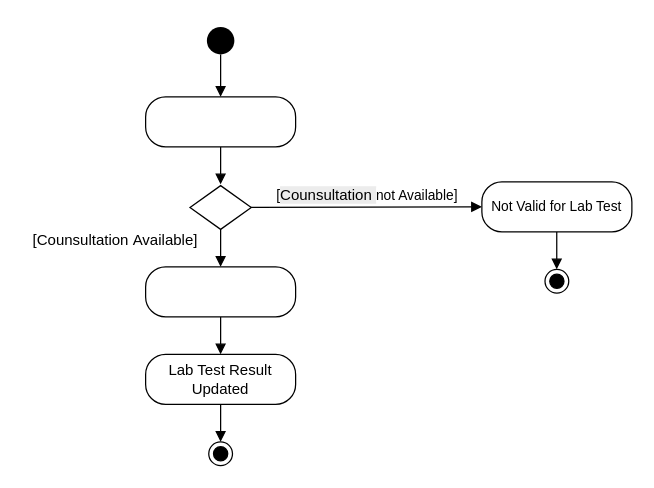
This 654x488 diagram has some shape labels left out. Each missing label, with the centre of its shape:
Check Counsultation Availibility: (x=220, y=121)
Procced to Lab Test: (x=220, y=291)
